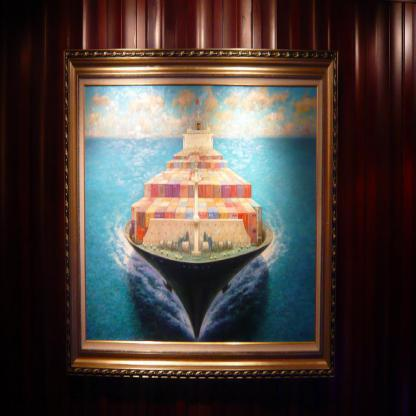Picture-frame: (61, 47, 343, 378)
